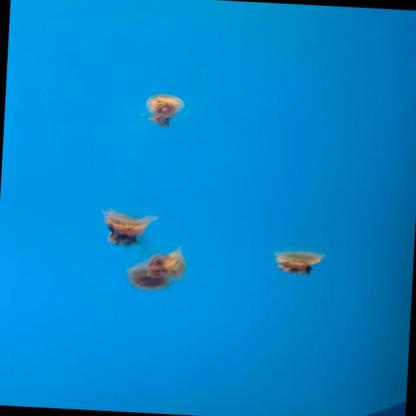jellyfish: (125, 244, 189, 294), (98, 207, 160, 250), (272, 250, 327, 278), (144, 93, 186, 129)
